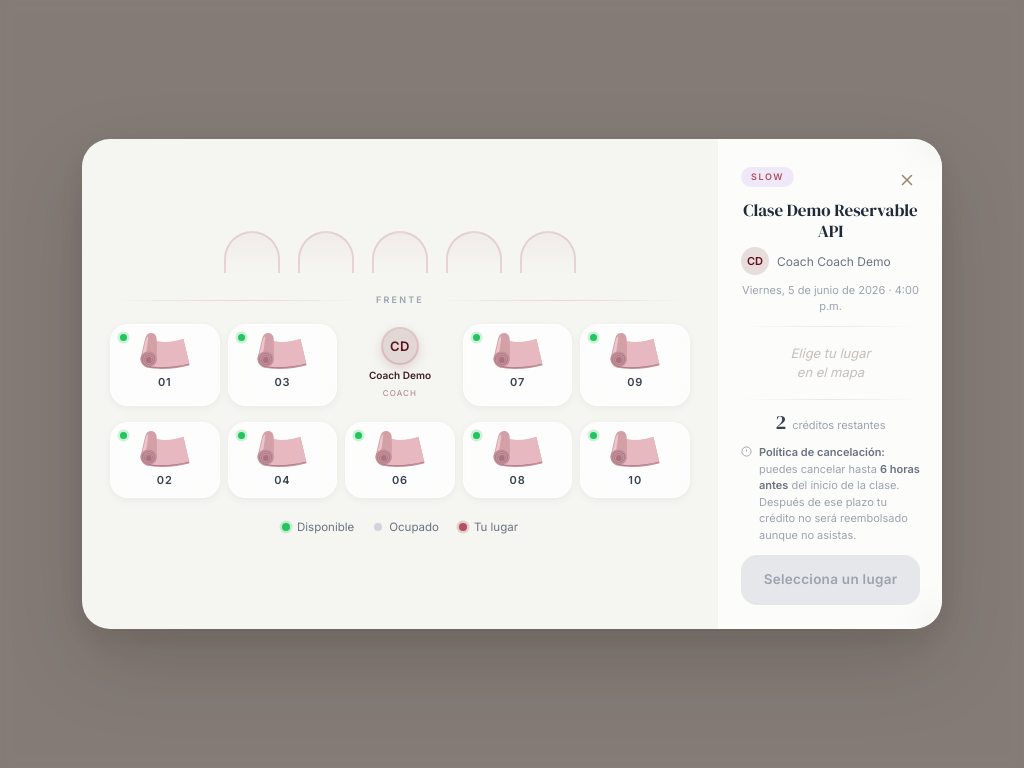
Scenario: EquipmentReservationPanel › bloquea confirmaciÃƒÆ’Ã†â€™Ãƒâ€ Ã¢â‚¬â„¢ÃƒÆ’Ã¢â‚¬Å¡Ãƒâ€šÃ‚Â³n cuando membresÃƒÆ’Ã†â€™Ãƒâ€ Ã¢â‚¬â„¢ÃƒÆ’Ã¢â‚¬Å¡Ãƒâ€šÃ‚Â­a limita un lugar por clase
Click the button with test id "slow-spot-01" at [165, 365], box 110,324 -> 220,406
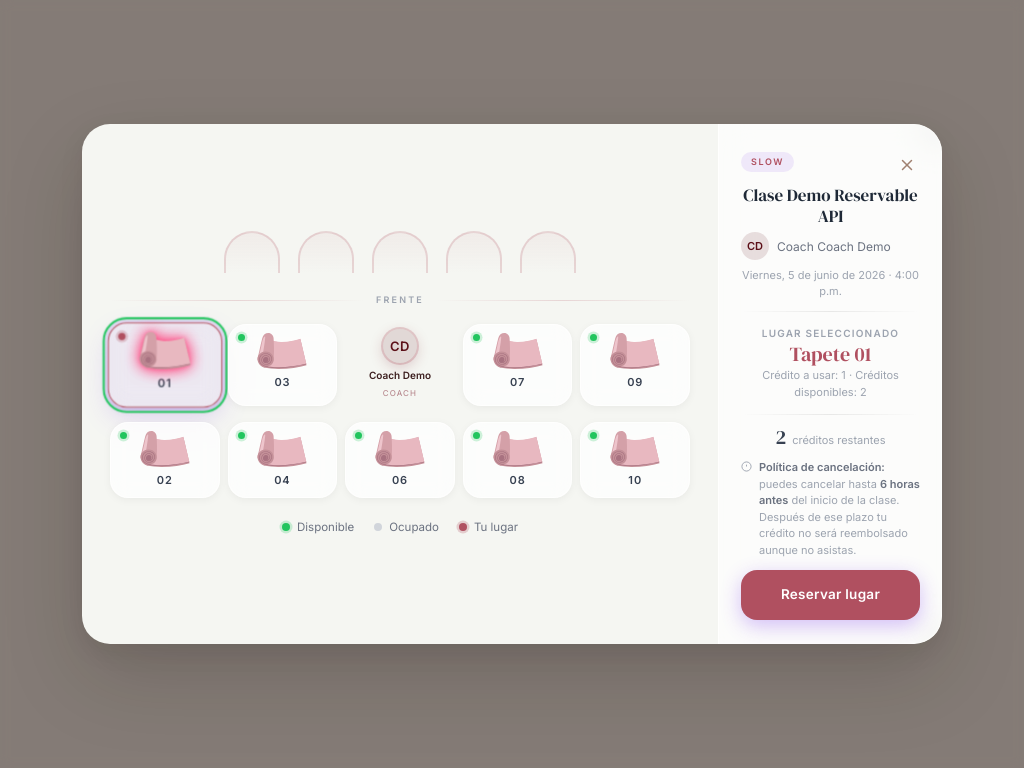
Click the button "Reservar lugar" at [830, 595], box 741,570 -> 920,620
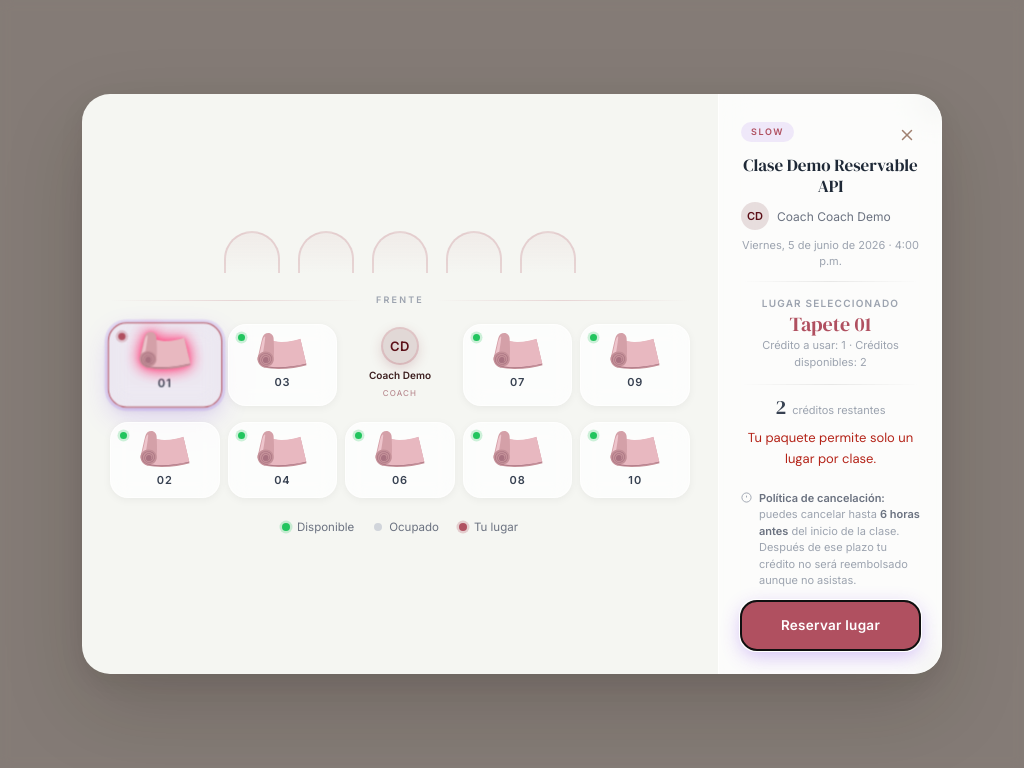
Now the text "Tu paquete permite solo un lugar por clase." is shown, box 741,428 -> 920,470
